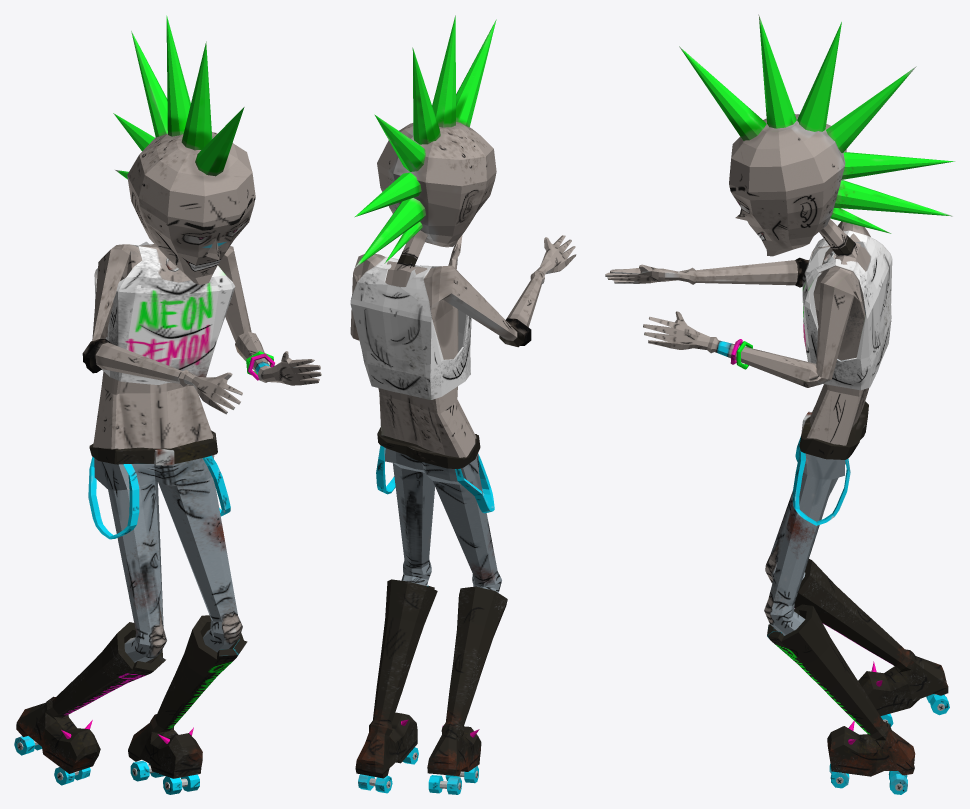
The model's file is punkAnimation_000016.obj.
3 views of the same model, side by side, from view 1: azimuth 30°, elevation 25°; view 2: azimuth 150°, elevation 25°; view 3: azimuth 270°, elevation 25° (orthographic). The views are drawn at different scales.
Visible parts, largest first — view 1: Cube.004_Cube.003; view 2: Cube.004_Cube.003; view 3: Cube.004_Cube.003.
Boxes of the visible parts, x1,y1,x2,y2 form: Cube.004_Cube.003: (14, 15, 321, 794); Cube.004_Cube.003: (350, 15, 576, 794); Cube.004_Cube.003: (605, 14, 954, 794).
Bounding box in the file's own units: 1.73 × 7.21 × 2.98.
